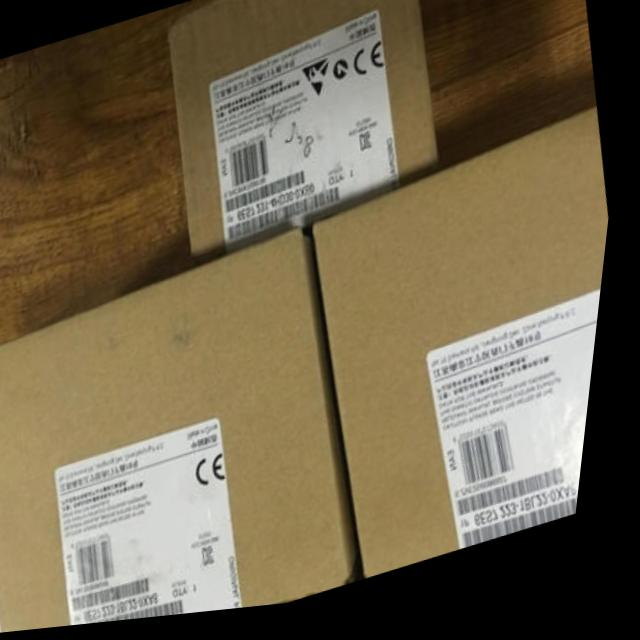box: (0, 234, 372, 634), (315, 117, 615, 587), (169, 0, 444, 268)
